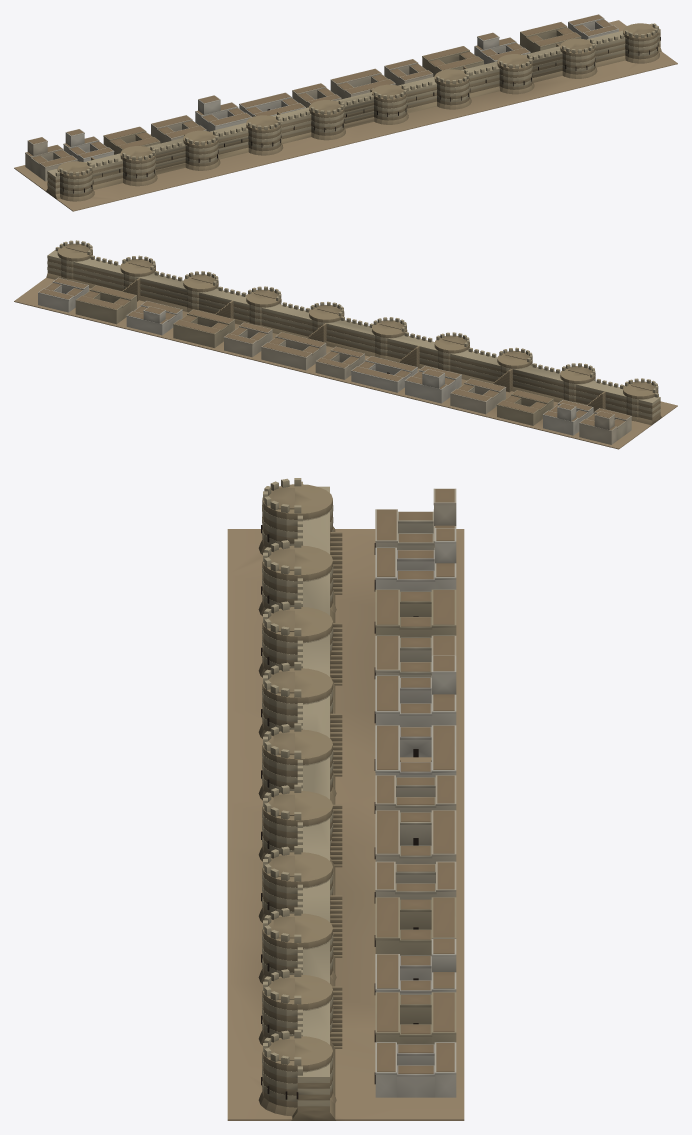
Rendered from sirsukh-wall.glb.
3 views of the same model, one above another, from view 1: azimuth 30°, elevation 25°; view 2: azimuth 150°, elevation 25°; view 3: azimuth 270°, elevation 25° (orthographic). The views are drawn at different scales.
Parts seen in each view (by area): view 1: p2_bastions and battlements, p3_houses inside, p0_ground, p1_wall; view 2: p3_houses inside, p1_wall, p2_bastions and battlements, p0_ground; view 3: p3_houses inside, p0_ground, p2_bastions and battlements, p1_wall.
Boxes of the visible parts, x1=… form: p2_bastions and battlements: x1=55, y1=23, x2=660, y2=201; p3_houses inside: x1=25, y1=14, x2=618, y2=181; p0_ground: x1=14, y1=20, x2=677, y2=211; p1_wall: x1=46, y1=23, x2=661, y2=199; p3_houses inside: x1=38, y1=277, x2=631, y2=444; p1_wall: x1=46, y1=250, x2=661, y2=425; p2_bastions and battlements: x1=55, y1=240, x2=658, y2=421; p0_ground: x1=14, y1=277, x2=677, y2=449; p3_houses inside: x1=330, y1=488, x2=456, y2=1097; p0_ground: x1=227, y1=529, x2=464, y2=1120; p2_bastions and battlements: x1=258, y1=478, x2=336, y2=1116; p1_wall: x1=291, y1=486, x2=335, y2=1120.
Bounding box in the file's own units: 260 × 11.71 × 44.01.
